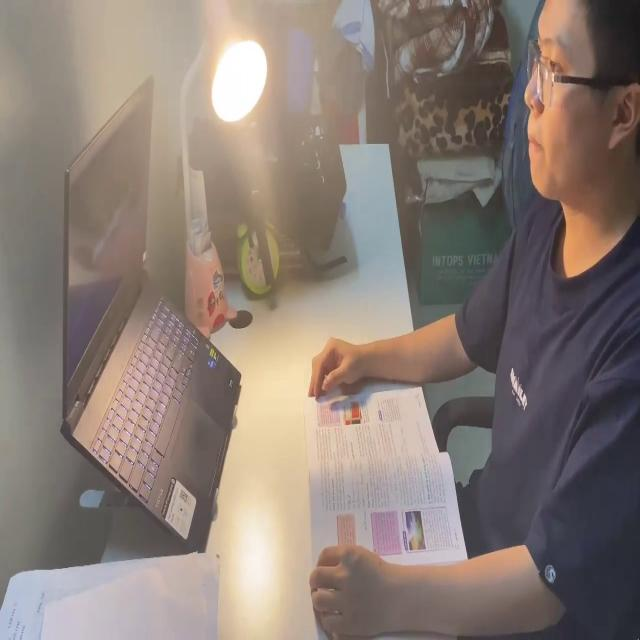book: (302, 376, 473, 583), (1, 557, 220, 640)
laptop: (56, 71, 243, 553)
student: (301, 0, 640, 640)
